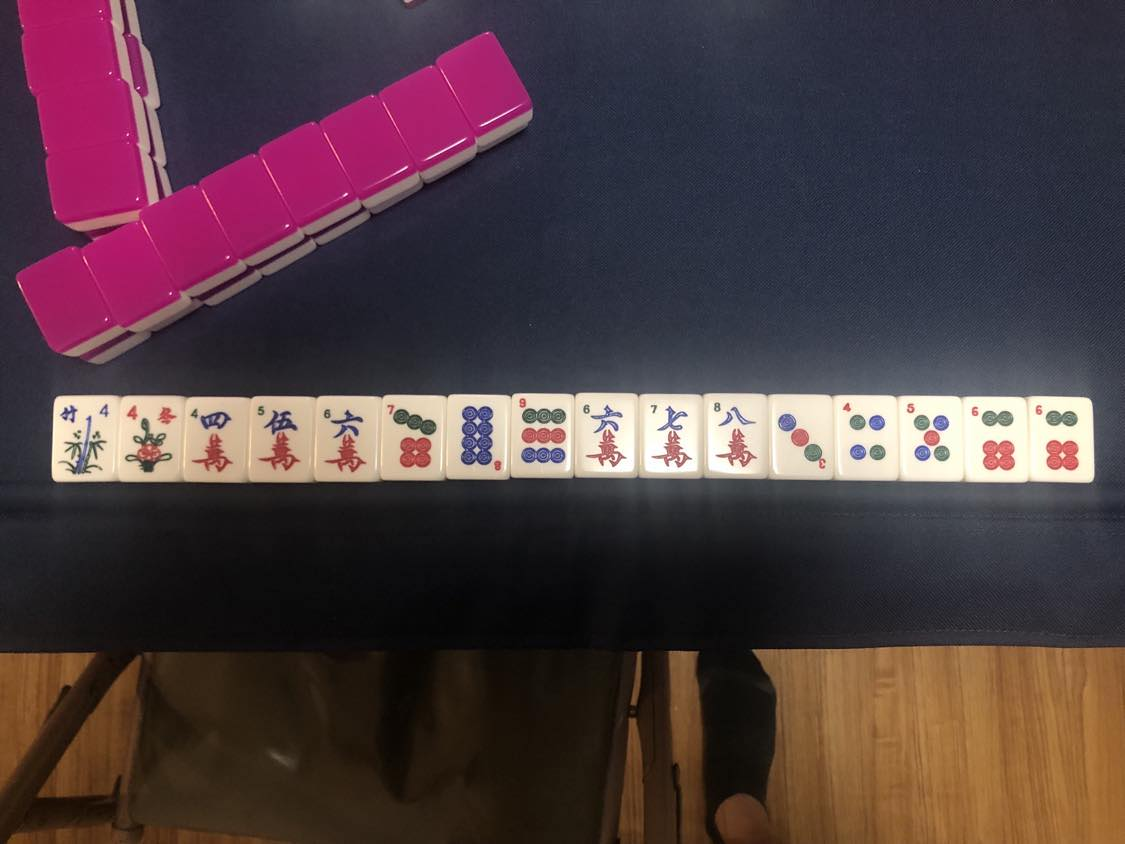character-eight: (708, 396, 767, 475)
character-five: (253, 399, 310, 480)
character-four: (187, 400, 244, 481)
character-seven: (644, 396, 702, 476)
character-six: (577, 394, 634, 475), (319, 400, 376, 479)
circle-eight: (450, 397, 506, 476)
circle-five: (902, 398, 961, 480)
circle-four: (838, 397, 898, 478)
circle-nine: (513, 395, 571, 476)
circle-seven: (383, 397, 443, 478)
circle-six: (1032, 401, 1088, 480), (969, 402, 1023, 481)
circle-three: (773, 400, 833, 478)
flower-blue_four: (54, 397, 113, 478)
flower-red_four: (120, 397, 180, 477)
